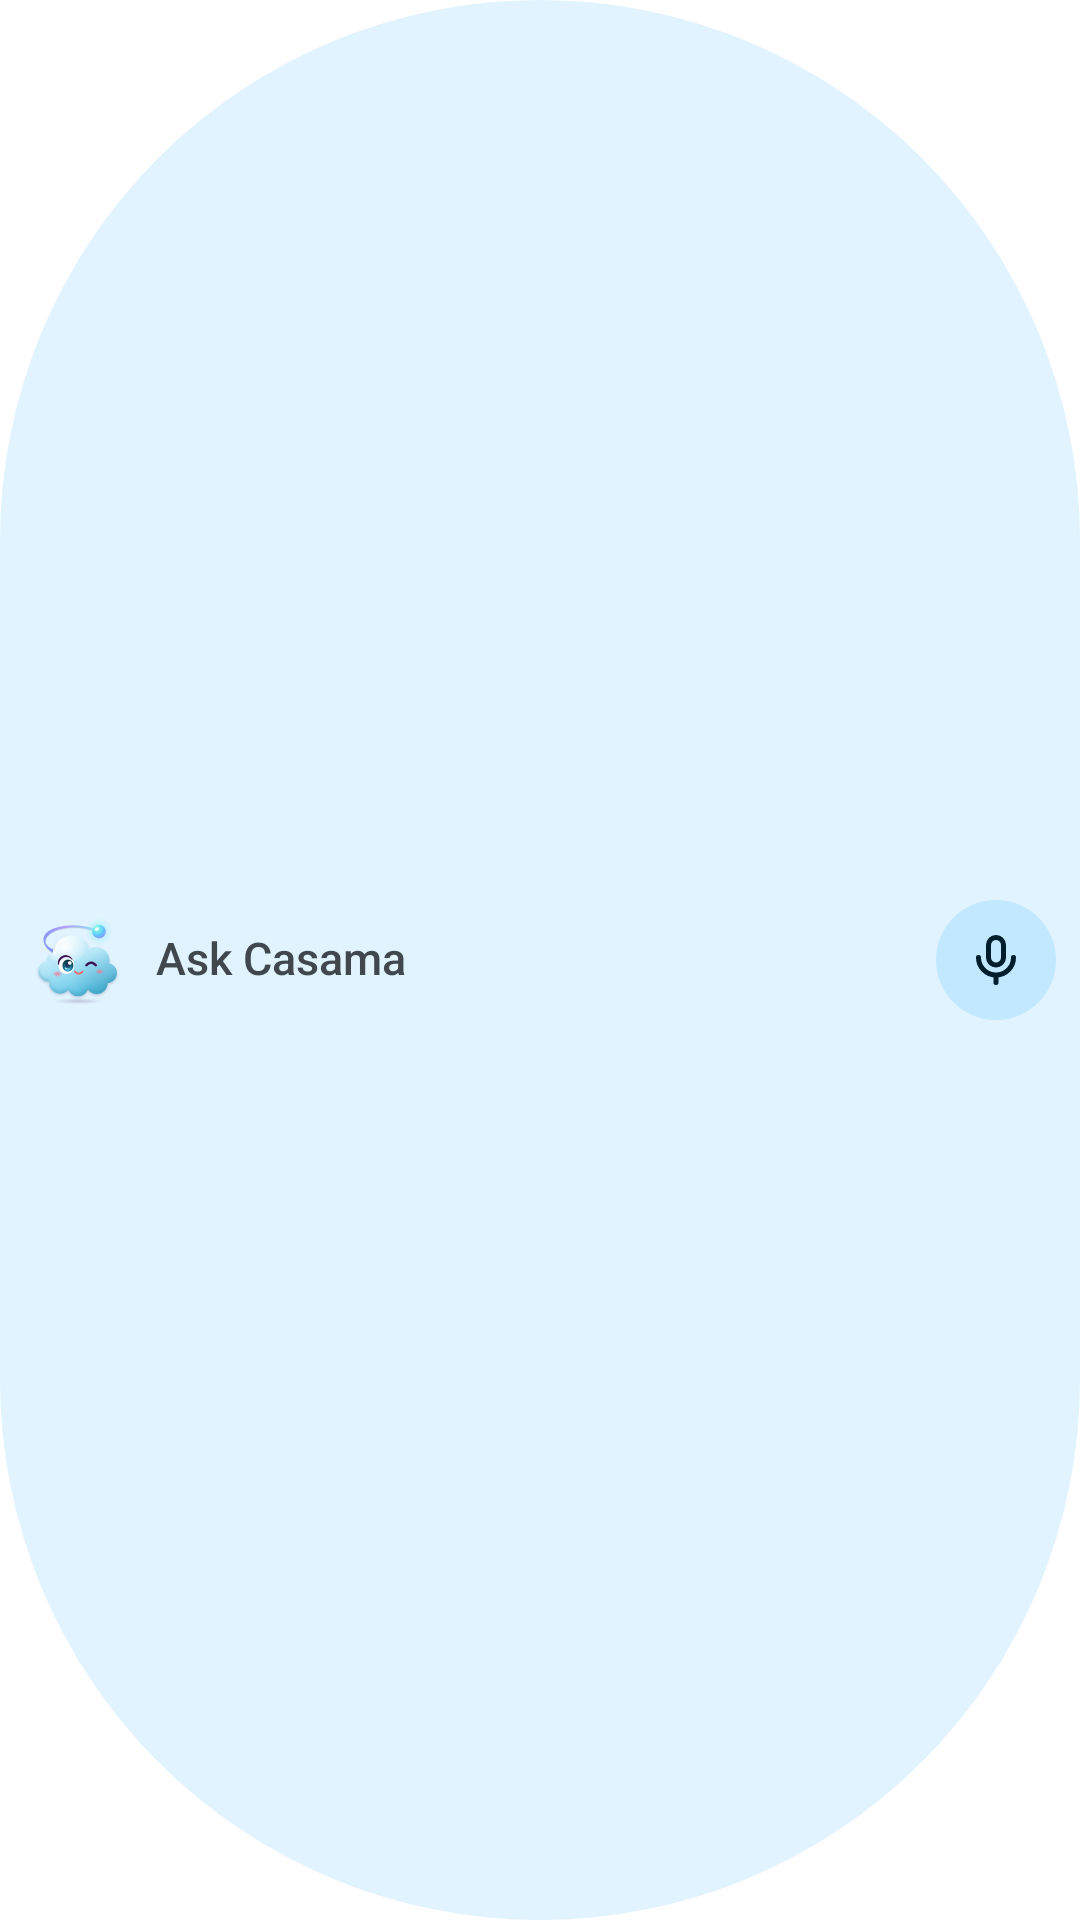

Icons on this 1080w x 1920h Android screen, each with its box as (x1, y1, x2, y2):
mascot winky: (38, 923, 117, 1003)
Talk: (936, 900, 1056, 1020)
